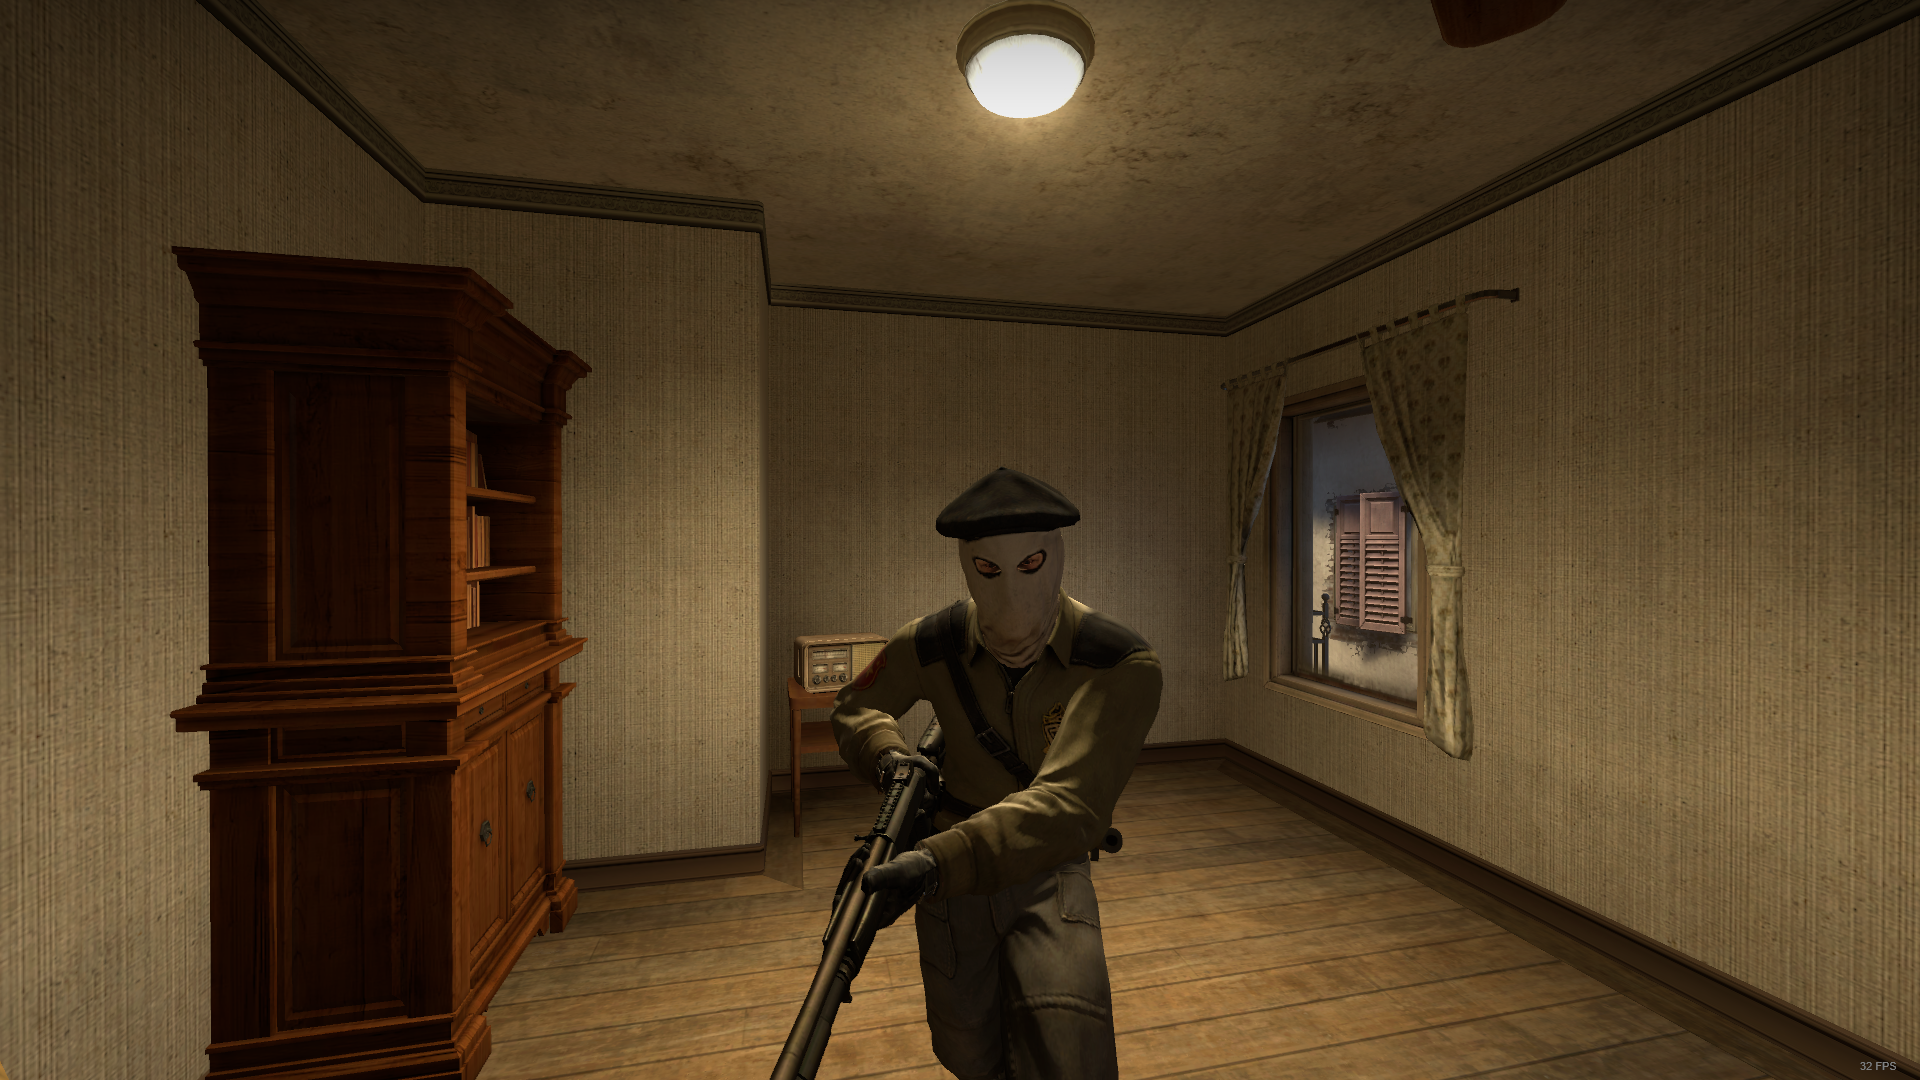t: (827, 465, 1160, 1080)
